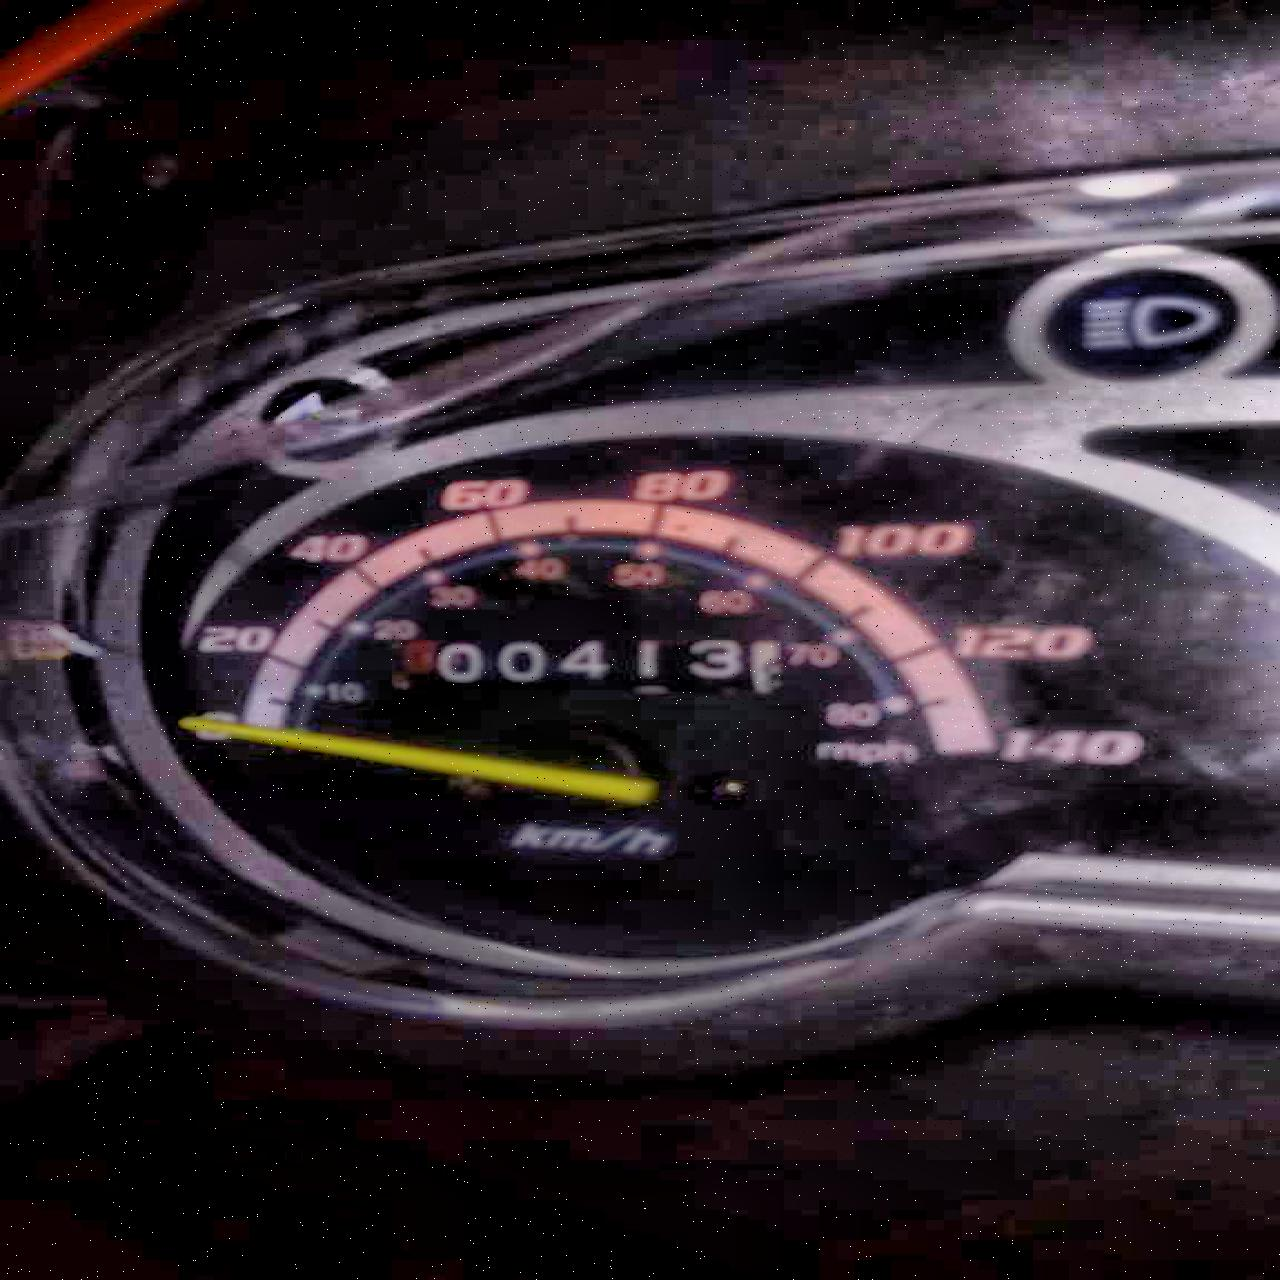0: (495, 640, 545, 680), (434, 642, 481, 681)
1: (636, 638, 659, 676)
3: (686, 638, 741, 676)
4: (557, 638, 606, 678)
8: (755, 658, 785, 693)
odometer: (394, 634, 788, 696)
